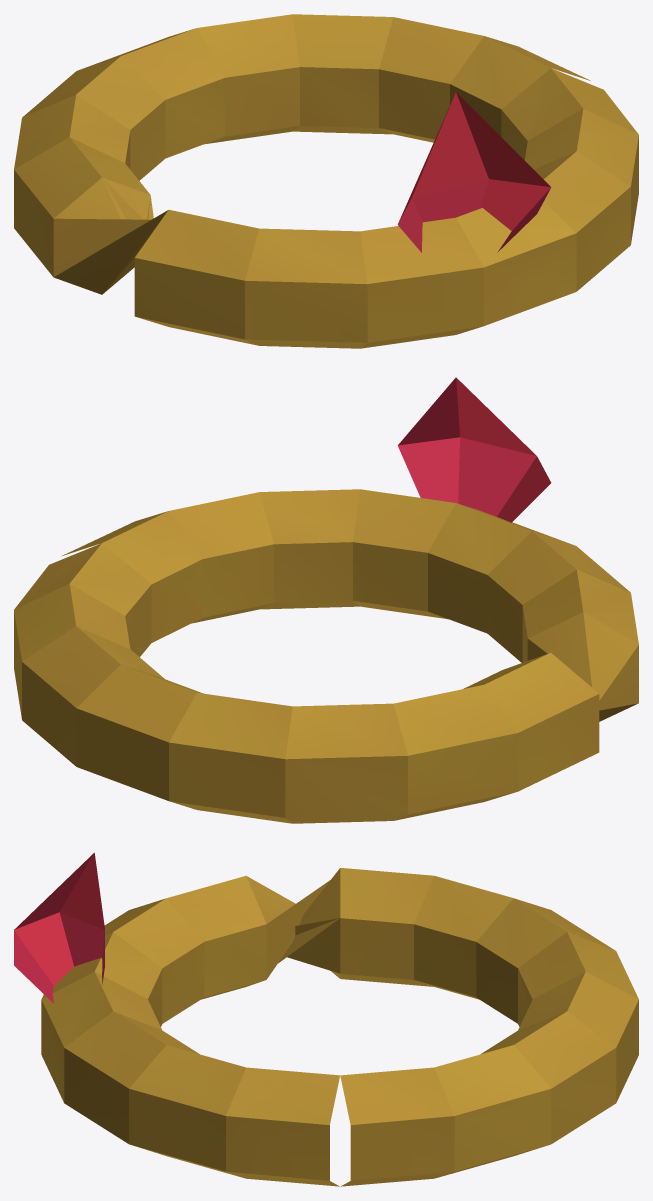
Rendered from gear_ring.glb.
3 views of the same model, one above another, from view 1: azimuth 30°, elevation 25°; view 2: azimuth 150°, elevation 25°; view 3: azimuth 270°, elevation 25° (orthographic). The views are drawn at different scales.
Parts seen in each view (by area): view 1: gear_ring_metal, gear_ring_crystal; view 2: gear_ring_metal, gear_ring_crystal; view 3: gear_ring_metal, gear_ring_crystal.
Boxes of the visible parts, <box> form: gear_ring_metal: <box>14,14,638,348</box>; gear_ring_crystal: <box>397,92,551,252</box>; gear_ring_metal: <box>14,489,638,823</box>; gear_ring_crystal: <box>397,377,551,522</box>; gear_ring_metal: <box>41,868,638,1186</box>; gear_ring_crystal: <box>14,852,104,1003</box>.
Size of the model in its own units: 0.6801 by 0.29 by 0.7126.
